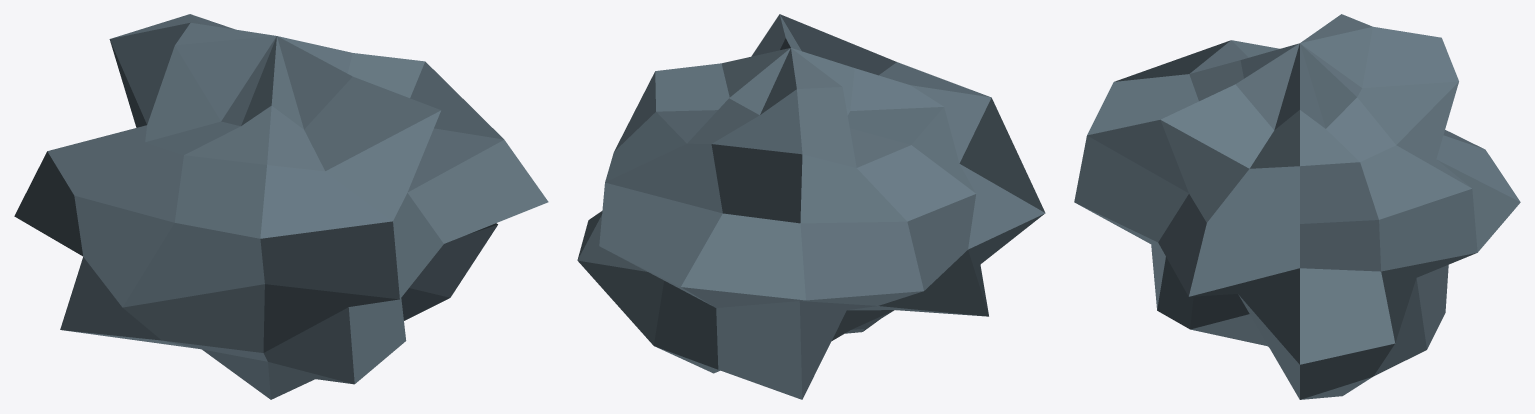
Rendered from space-asteroid-metal.lod0.glb.
3 renders of one model, left to right at view 1: azimuth 30°, elevation 25°; view 2: azimuth 150°, elevation 25°; view 3: azimuth 270°, elevation 25°, orthographic. The views are drawn at different scales.
Parts seen in each view (by area): view 1: space-asteroid-metal__body; view 2: space-asteroid-metal__body; view 3: space-asteroid-metal__body.
Part boxes in pixels (x1,y1,x2,y2): space-asteroid-metal__body: [14, 14, 548, 399]; space-asteroid-metal__body: [577, 14, 1045, 399]; space-asteroid-metal__body: [1074, 14, 1520, 399].
Size of the model in its own units: 2.45 by 1.84 by 2.36.
